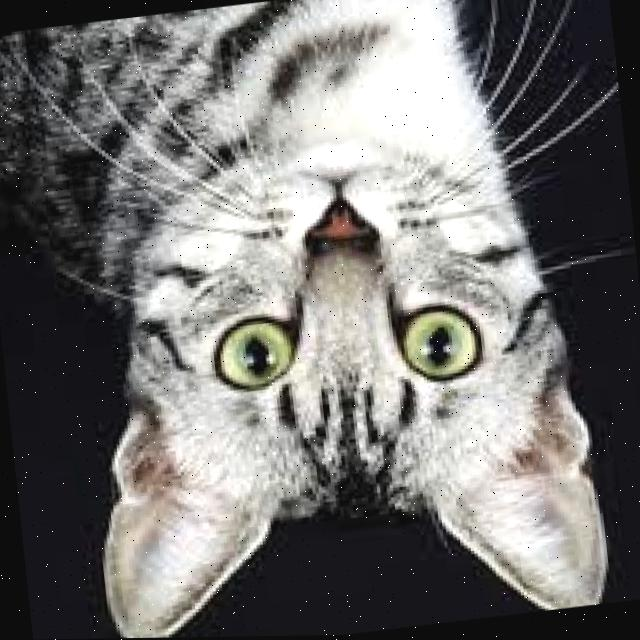Egyptian Mau: (0, 0, 618, 640)
